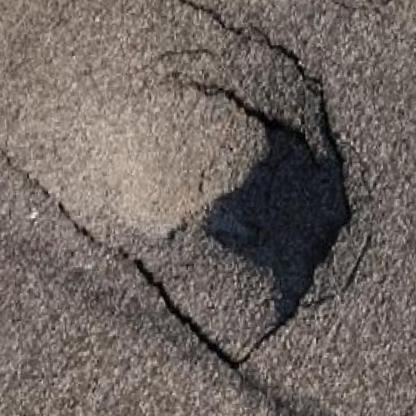pothole: (100, 12, 383, 381)
